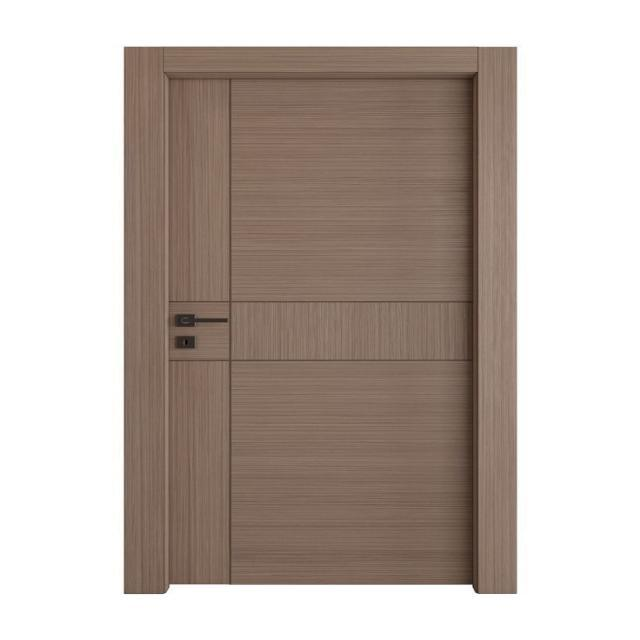door: (124, 46, 516, 594)
